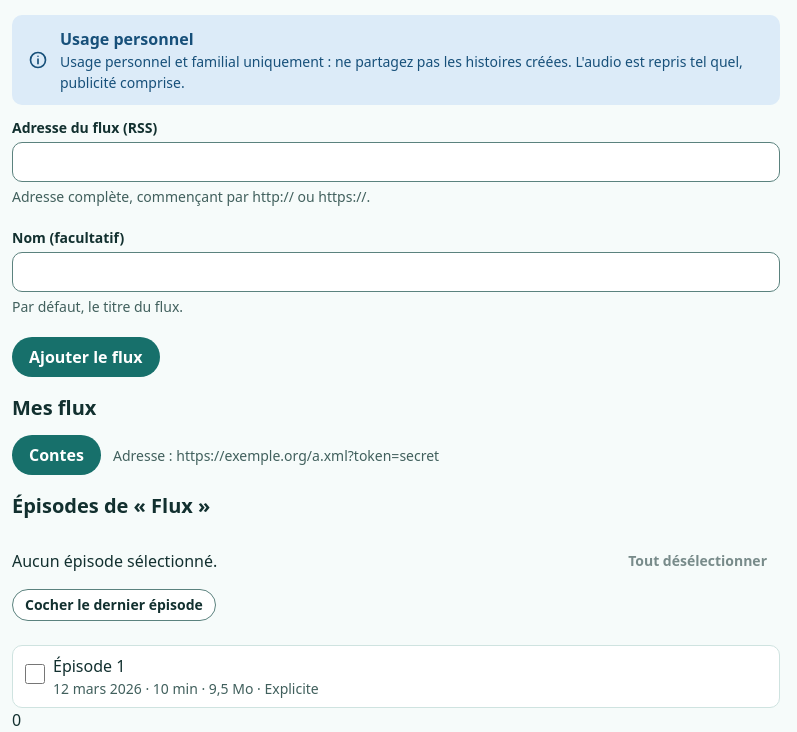
it: un épisode explicite est signalé et décoché ; on peut le cocher volontairement
(page scrolled)
What coordinates should you click on to do the following:
click the checkbox labelled "Épisode 1"
I would click on:
 (35, 674)
Its box is [25, 664, 45, 684].
(page scrolled)
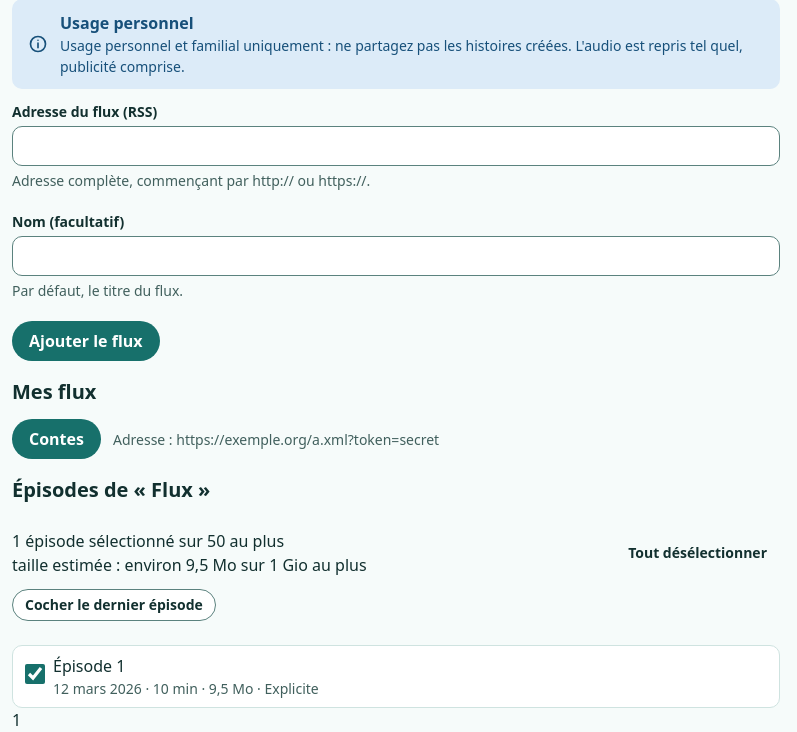
Result: the checkbox labelled "Épisode 1" is checked at [25, 664, 45, 684]
Result: the text with test id "probe" reads "1" at [12, 709, 21, 731]
